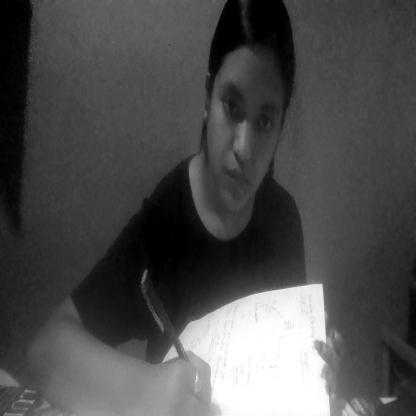Normal: (204, 0, 289, 219)
